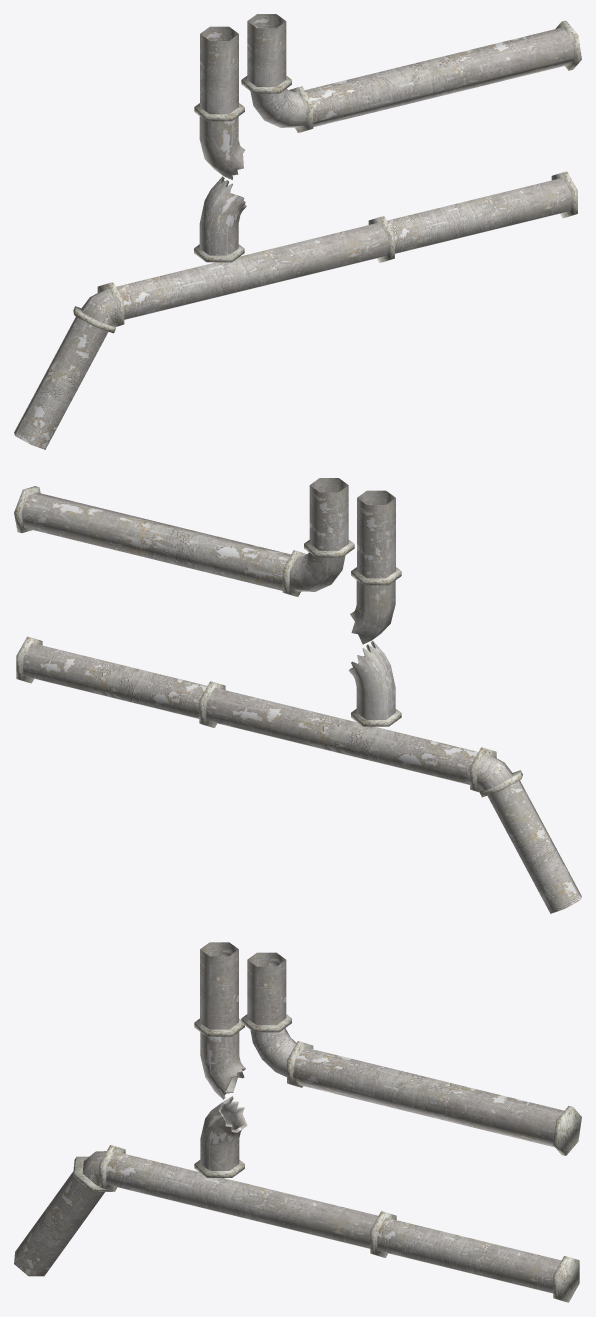
File: WallScope2Broken.obj
3 views of the same model, one above another, from view 1: azimuth 30°, elevation 25°; view 2: azimuth 150°, elevation 25°; view 3: azimuth 330°, elevation 25° (orthographic).
Visible parts, largest first — view 1: pasted__PipeSet1 pipesWall2 Wall_2 WC_Pipes3:polySurface667, Wall_2 group1 WC_Pipes3:polySurface675, Wall_2 polySurface675 group1, Wall_2 group1 WC_Pipes3:polySurface671, polySurface658, WC_Pipes3:polySurface668 pasted__PipeSet1 pipesWall2 Wall_2, pasted__PipeSet1 pipesWall2 Wall_2 WC_Pipes3:polySurface669, pasted__PipeSet1 pipesWall2 Wall_2 WC_Pipes3:polySurface665, Wall_2 group1 WC_Pipes3:polySurface674; view 2: pasted__PipeSet1 pipesWall2 Wall_2 WC_Pipes3:polySurface667, Wall_2 group1 WC_Pipes3:polySurface675, Wall_2 polySurface675 group1, Wall_2 group1 WC_Pipes3:polySurface671, polySurface658, WC_Pipes3:polySurface668 pasted__PipeSet1 pipesWall2 Wall_2, pasted__PipeSet1 pipesWall2 Wall_2 WC_Pipes3:polySurface669, pasted__PipeSet1 pipesWall2 Wall_2 WC_Pipes3:polySurface665, Wall_2 group1 WC_Pipes3:polySurface674; view 3: pasted__PipeSet1 pipesWall2 Wall_2 WC_Pipes3:polySurface667, Wall_2 group1 WC_Pipes3:polySurface675, Wall_2 polySurface675 group1, polySurface658, Wall_2 group1 WC_Pipes3:polySurface671, WC_Pipes3:polySurface668 pasted__PipeSet1 pipesWall2 Wall_2, pasted__PipeSet1 pipesWall2 Wall_2 WC_Pipes3:polySurface669, pasted__PipeSet1 pipesWall2 Wall_2 WC_Pipes3:polySurface665, Wall_2 group1 WC_Pipes3:polySurface674.
Boxes of the visible parts, bbox=[...] form: pasted__PipeSet1 pipesWall2 Wall_2 WC_Pipes3:polySurface667: bbox=[305, 20, 581, 126]; Wall_2 group1 WC_Pipes3:polySurface675: bbox=[116, 216, 394, 319]; Wall_2 polySurface675 group1: bbox=[387, 171, 577, 253]; Wall_2 group1 WC_Pipes3:polySurface671: bbox=[14, 306, 115, 449]; polySurface658: bbox=[194, 116, 246, 262]; WC_Pipes3:polySurface668 pasted__PipeSet1 pipesWall2 Wall_2: bbox=[194, 26, 244, 121]; pasted__PipeSet1 pipesWall2 Wall_2 WC_Pipes3:polySurface669: bbox=[241, 14, 291, 93]; pasted__PipeSet1 pipesWall2 Wall_2 WC_Pipes3:polySurface665: bbox=[250, 86, 313, 132]; Wall_2 group1 WC_Pipes3:polySurface674: bbox=[81, 282, 124, 326]; pasted__PipeSet1 pipesWall2 Wall_2 WC_Pipes3:polySurface667: bbox=[14, 486, 290, 590]; Wall_2 group1 WC_Pipes3:polySurface675: bbox=[199, 681, 478, 784]; Wall_2 polySurface675 group1: bbox=[16, 636, 207, 718]; Wall_2 group1 WC_Pipes3:polySurface671: bbox=[480, 770, 581, 913]; polySurface658: bbox=[348, 580, 401, 726]; WC_Pipes3:polySurface668 pasted__PipeSet1 pipesWall2 Wall_2: bbox=[351, 490, 401, 585]; pasted__PipeSet1 pipesWall2 Wall_2 WC_Pipes3:polySurface669: bbox=[304, 478, 354, 557]; pasted__PipeSet1 pipesWall2 Wall_2 WC_Pipes3:polySurface665: bbox=[282, 550, 345, 596]; Wall_2 group1 WC_Pipes3:polySurface674: bbox=[470, 747, 513, 792]; pasted__PipeSet1 pipesWall2 Wall_2 WC_Pipes3:polySurface667: bbox=[293, 1047, 581, 1155]; Wall_2 group1 WC_Pipes3:polySurface675: bbox=[106, 1151, 396, 1257]; Wall_2 polySurface675 group1: bbox=[377, 1217, 579, 1302]; polySurface658: bbox=[194, 1032, 247, 1177]; Wall_2 group1 WC_Pipes3:polySurface671: bbox=[14, 1156, 114, 1276]; WC_Pipes3:polySurface668 pasted__PipeSet1 pipesWall2 Wall_2: bbox=[194, 942, 244, 1036]; pasted__PipeSet1 pipesWall2 Wall_2 WC_Pipes3:polySurface669: bbox=[241, 952, 291, 1032]; pasted__PipeSet1 pipesWall2 Wall_2 WC_Pipes3:polySurface665: bbox=[250, 1028, 313, 1087]; Wall_2 group1 WC_Pipes3:polySurface674: bbox=[82, 1145, 125, 1191].
Size of the model in its own units: 16.47 by 10.53 by 1.32.
1 material, 1 textured.
